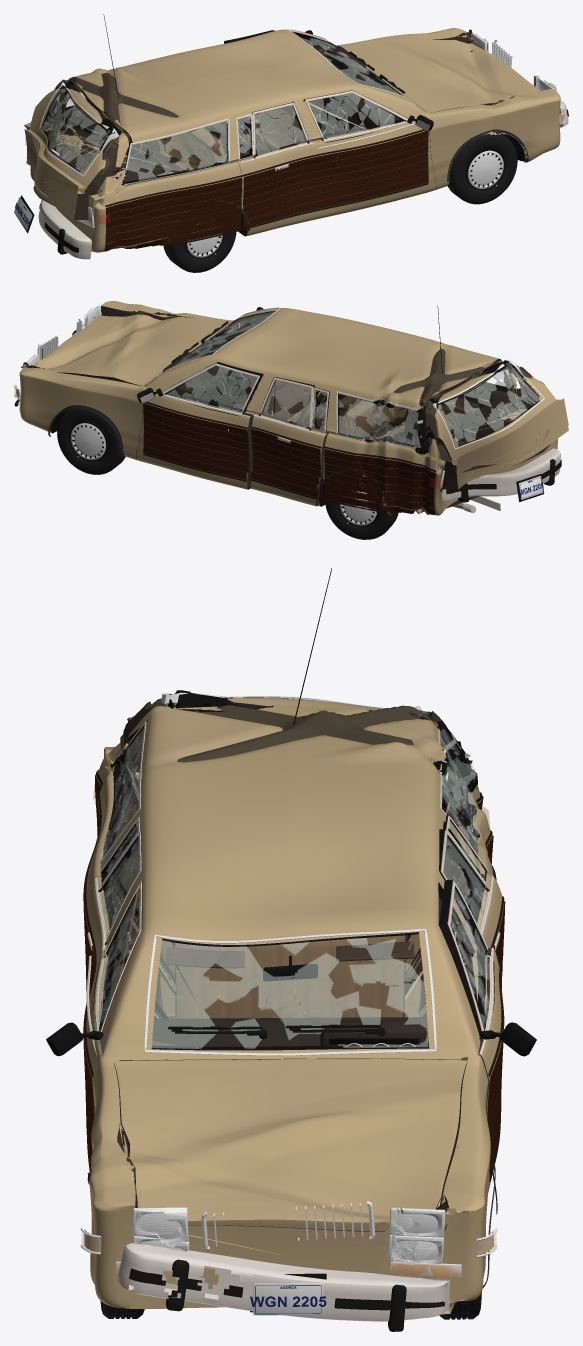
Rendered from wagon82_rear_corner_d1.glb.
3 renders of one model, top to bottom at view 1: azimuth 30°, elevation 25°; view 2: azimuth 150°, elevation 25°; view 3: azimuth 270°, elevation 25°, orthographic. The views are drawn at different scales.
Visible parts, largest first — view 1: Body, Hood, Trim, Interior, Trim_FR, Tailgate, Trim_RR, Glass, Wheel_FR_mesh, Door_FR, Glass_Tailgate, Glass_FR (+6 smaller); view 2: Body, Hood, Tailgate, Trim, Interior, Trim_FL, Trim_RL, Glass, Glass_Tailgate, Wheel_FL_mesh, Door_FL, Bumper_R (+5 smaller); view 3: Body, Hood, Interior, Glass, Bumper_F, Ends, Door_FL, Trim, Trim_FL, Tailgate, Trim_FR, Lamps_Head (+9 smaller).
Part boxes in pixels (x1,y1,x2,y2): Body: [24, 28, 560, 252]; Hood: [341, 38, 540, 112]; Trim: [52, 14, 528, 251]; Interior: [55, 46, 399, 190]; Trim_FR: [305, 91, 433, 210]; Tailgate: [24, 79, 128, 219]; Trim_RR: [236, 103, 319, 228]; Glass: [48, 30, 416, 185]; Wheel_FR_mesh: [447, 134, 517, 204]; Door_FR: [304, 90, 436, 218]; Glass_Tailgate: [39, 82, 118, 176]; Glass_FR: [306, 93, 406, 142]; Body: [19, 301, 557, 515]; Hood: [34, 314, 231, 385]; Tailgate: [422, 360, 568, 492]; Trim: [48, 305, 519, 515]; Interior: [162, 328, 510, 462]; Trim_FL: [137, 364, 259, 481]; Trim_RL: [250, 378, 328, 499]; Glass: [155, 308, 519, 454]; Glass_Tailgate: [432, 359, 544, 449]; Wheel_FL_mesh: [57, 405, 125, 474]; Door_FL: [136, 362, 262, 489]; Bumper_R: [440, 448, 561, 502]; Body: [86, 705, 493, 1314]; Hood: [114, 1058, 466, 1231]; Interior: [152, 934, 428, 1046]; Glass: [100, 720, 479, 1055]; Bumper_F: [118, 1243, 449, 1331]; Ends: [80, 772, 497, 1315]; Door_FL: [438, 879, 502, 1193]; Trim: [83, 568, 497, 1287]; Trim_FL: [448, 881, 536, 1181]; Tailgate: [123, 690, 461, 837]; Trim_FR: [46, 882, 141, 1171]; Lamps_Head: [135, 1211, 441, 1265].
Bounding box in the file's own units: 4.99 × 2.11 × 2.14.
Materials: 35 (6 with a texture image).
